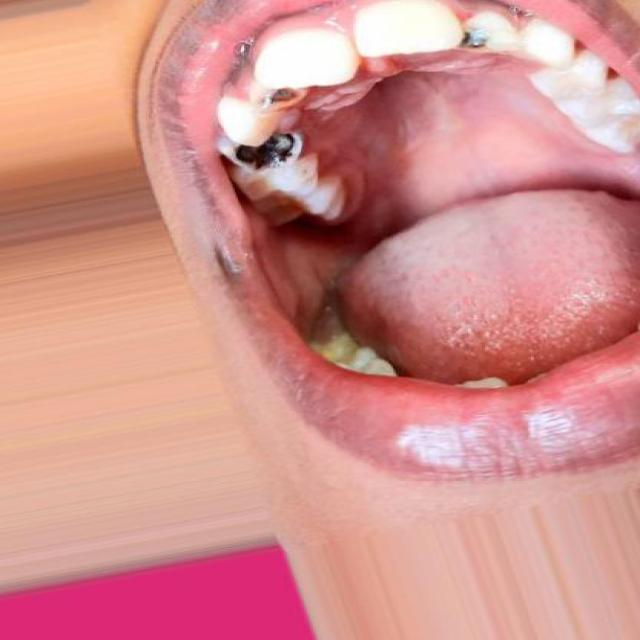caries: (219, 127, 317, 172), (242, 65, 317, 118), (453, 8, 527, 53)
